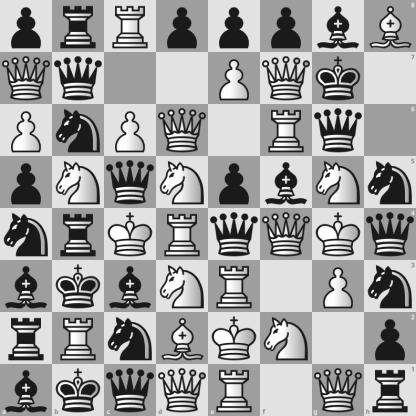B: (364, 0, 416, 52), (157, 313, 208, 364)
K: (105, 209, 156, 260), (209, 313, 260, 364), (313, 209, 364, 260)
N: (53, 157, 104, 208), (157, 157, 208, 208), (157, 261, 208, 312), (261, 313, 312, 364), (313, 157, 364, 208)
P: (1, 105, 52, 156), (105, 105, 156, 156), (209, 53, 260, 104), (313, 261, 364, 312)
Q: (156, 364, 209, 416), (312, 364, 364, 416), (1, 53, 52, 104), (157, 105, 208, 156), (261, 53, 312, 104), (261, 209, 312, 260)
R: (209, 364, 260, 416), (53, 313, 104, 364), (105, 1, 156, 52), (157, 209, 208, 260), (209, 261, 260, 312), (261, 105, 312, 156)
b: (0, 364, 52, 416), (1, 261, 52, 312), (105, 261, 156, 312), (261, 157, 312, 208), (313, 1, 364, 52)
board: (0, 0, 415, 415)
k: (52, 364, 104, 416), (53, 261, 104, 312), (313, 53, 364, 104)
n: (364, 156, 416, 209), (364, 260, 416, 312), (1, 209, 52, 260), (53, 105, 104, 156), (105, 313, 156, 364)
p: (364, 312, 416, 364), (1, 1, 52, 52), (1, 157, 52, 208), (157, 1, 208, 52), (209, 1, 260, 52), (209, 157, 260, 208), (261, 1, 312, 52)
q: (104, 364, 156, 416), (364, 209, 416, 260), (53, 53, 104, 104), (105, 157, 156, 208), (209, 209, 260, 260), (313, 105, 364, 156)
r: (364, 364, 416, 416), (1, 313, 52, 364), (53, 1, 104, 52), (53, 209, 104, 260)
